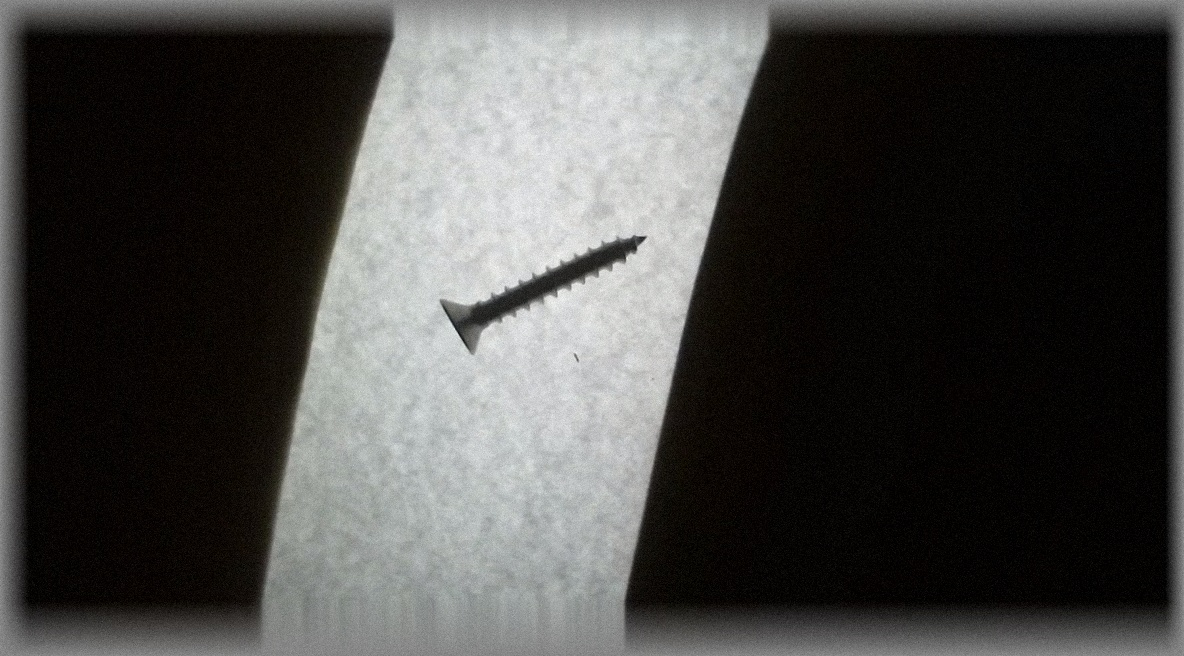S001: (422, 219, 659, 364)
